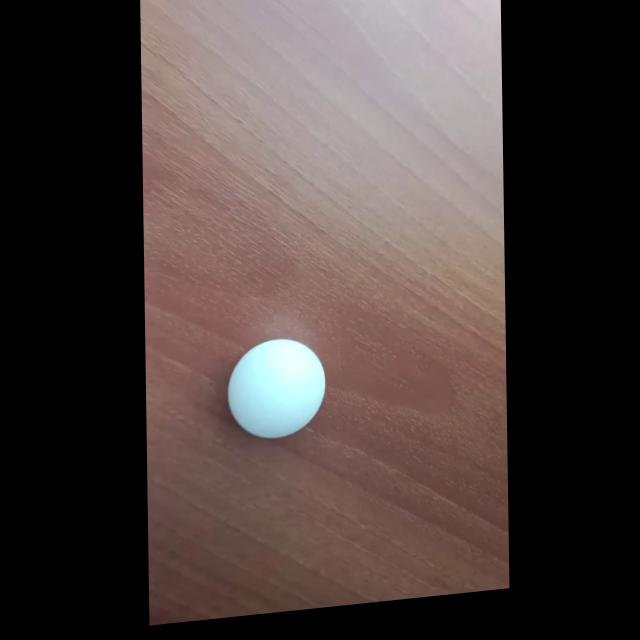white ball: (226, 333, 326, 443)
